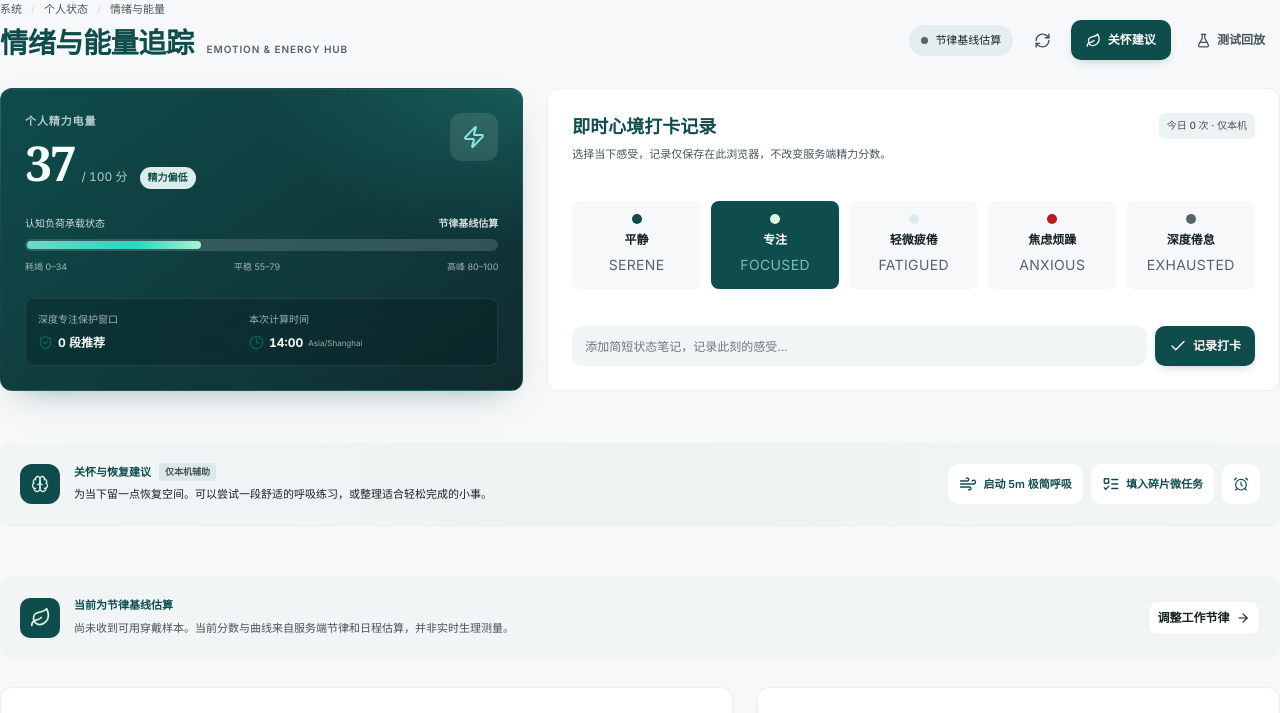
Scenario: wearable energy insights › does not claim a five-minute breathing exercise is complete before its timer finishes
This screenshot has width=1280, height=713.
Check: the element named "个人精力电量" is shown, box [25,239,498,251]
Click the button "启动 5m 极简呼吸" at (1015, 484), box [948,464,1083,504]
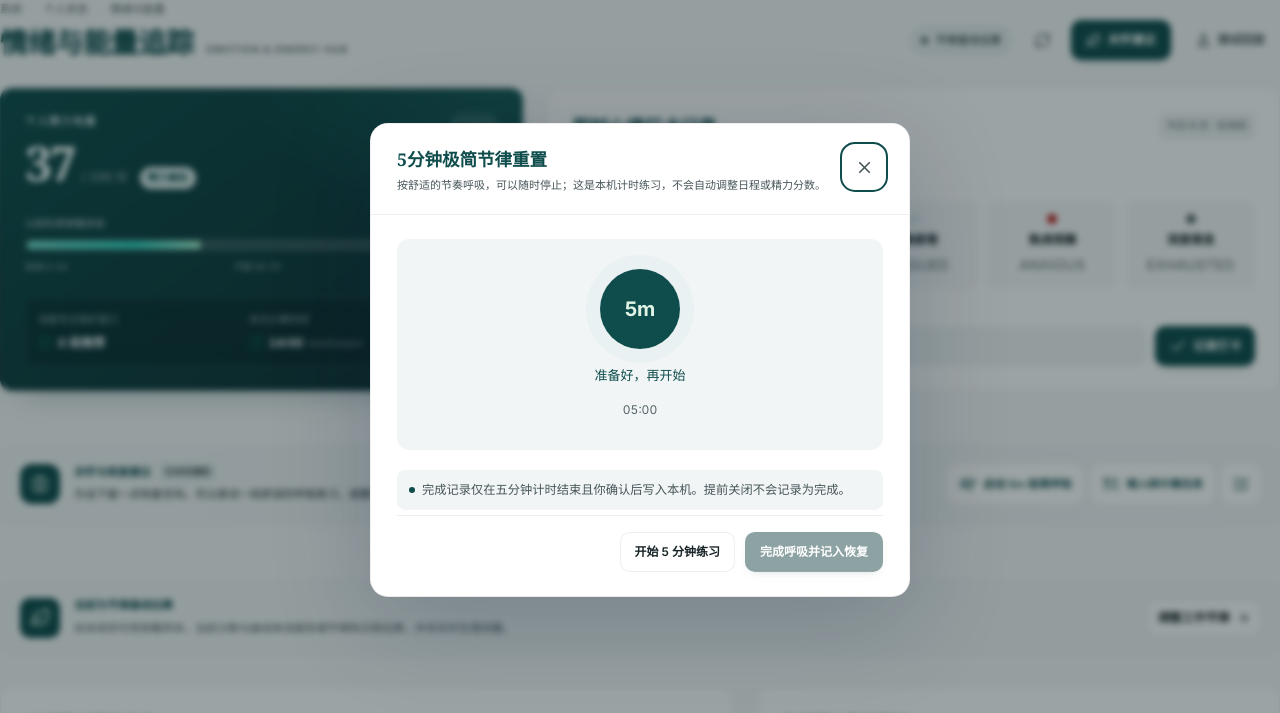
Check: the button "完成呼吸并记入恢复" is disabled, box [745,532,883,572]
Check: the button "开始 5 分钟练习" is shown, box [620,532,735,572]
